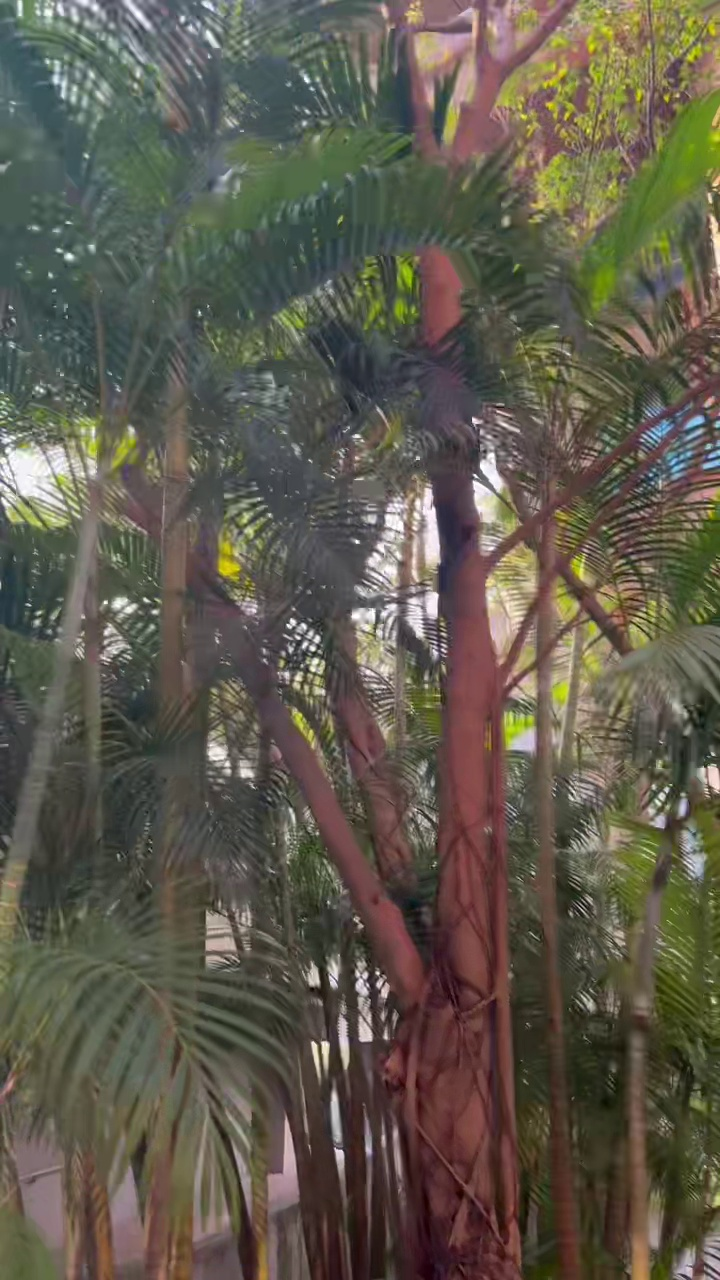Ficus benjamina: (233, 0, 573, 1279)
